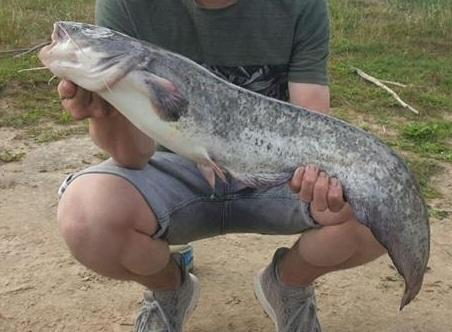Catfish: (39, 5, 430, 310)
